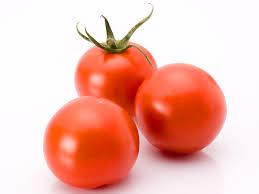tomato: (132, 56, 226, 152), (41, 100, 139, 186), (72, 43, 158, 111)
